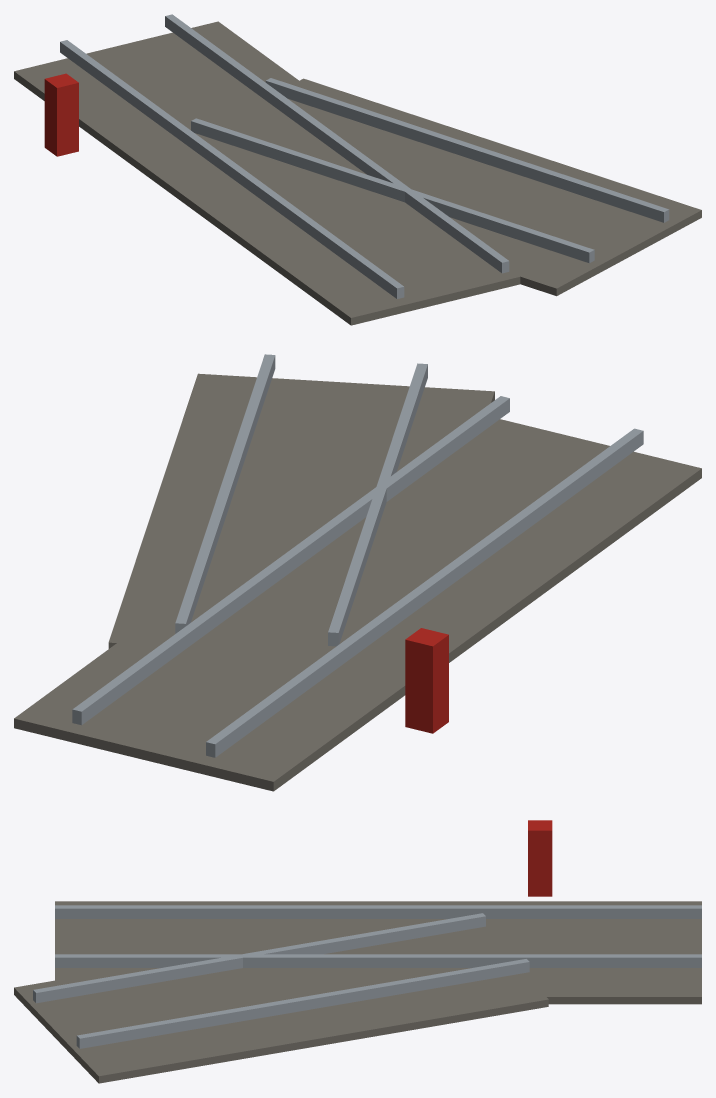
Rendered from road_rail_viii_switch_lod2.glb.
3 views of the same model, one above another, from view 1: azimuth 30°, elevation 25°; view 2: azimuth 150°, elevation 25°; view 3: azimuth 270°, elevation 25° (orthographic). The views are drawn at different scales.
Parts seen in each view (by area): view 1: body, lever; view 2: body, lever; view 3: body, lever.
Boxes of the visible parts, bbox=[...] form: body: bbox=[14, 14, 701, 325]; lever: bbox=[44, 73, 78, 156]; body: bbox=[14, 354, 701, 791]; lever: bbox=[405, 628, 448, 733]; body: bbox=[14, 901, 701, 1083]; lever: bbox=[528, 820, 552, 896].
Bounding box in the file's own units: 5.77 × 0.9 × 8.51.
